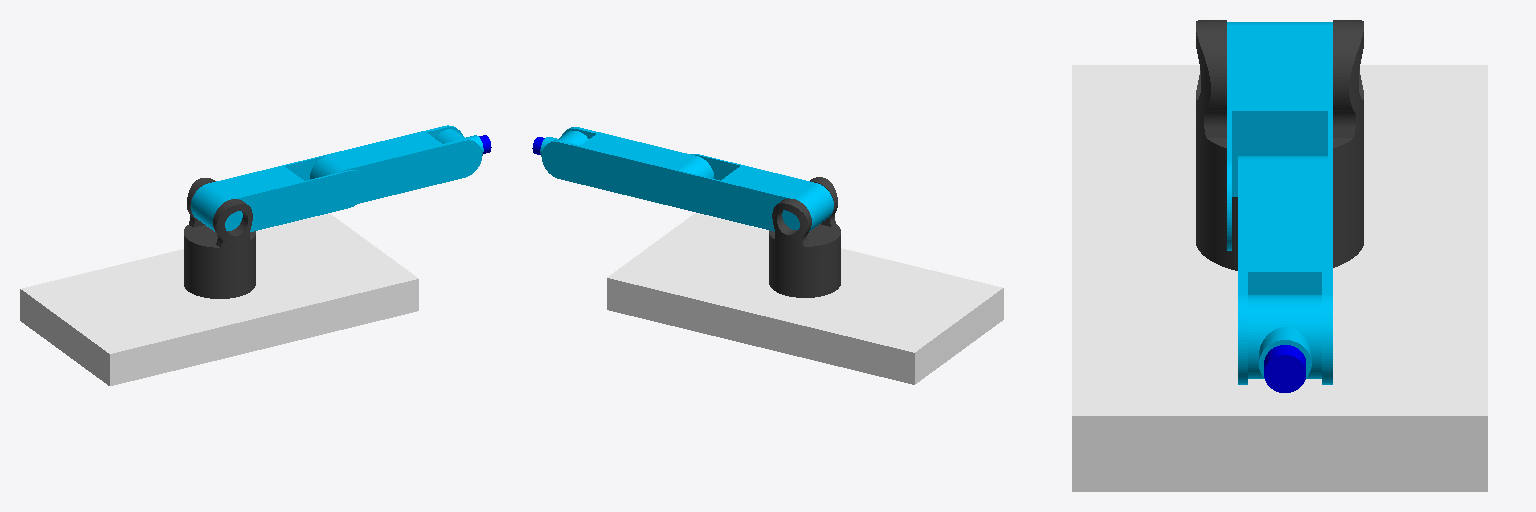
robot.urdf — echelon:
<?xml version="1.0"?>
<robot name="echelon">
    <material name="white">
        <color rgba="1 1 1 1"/>
    </material>

    <material name="black">
        <color rgba="0.3 0.3 0.3 1"/>
    </material>

    <material name="orange">
        <color rgba="0 0.8 1 1"/>
    </material>

    <material name="blue">
        <color rgba="0.0 0.0 1.0 1.0" />
    </material>

    <link name="world">
        <visual>
            <geometry>
                <box size="1 0.5 0.1" />
            </geometry>
            <origin xyz="0 0 -0.05" rpy="0 0 0" />
            <material name="white"/>
        </visual>
    </link>

    <link name="base_link">
        <visual>
            <geometry>
                <mesh filename="package://robot_description/meshes/Base_link.stl" scale="0.001 0.001 0.001"/>
            </geometry>
            <origin xyz="0 0 0" rpy="0 0 0" />
            <material name="black"/>
        </visual>
    </link>

    <joint name="world_base_joint" type="continuous">
        <parent link="world"/>
        <child link="base_link"/>
        <origin xyz="0 0 0" rpy="0 0 -1.5708"/>
        <axis xyz="0 0 1"/>
    </joint>

    <link name="shoulder_link">
        <visual>
            <geometry>
                <mesh filename="package://robot_description/meshes/Shoulder_link.stl" scale="0.001 0.001 0.001"/>
            </geometry>
            <origin xyz="0 0 0" rpy="0 1.5708 0"/>
            <material name="orange"/>
        </visual>
    </link>

    <joint name="base_shoulder_joint" type="continuous">
         <parent link="base_link" />
         <child link="shoulder_link" />
         <origin xyz="-0.0635 0 0.227" rpy="0 0 0" />
         <axis xyz="1 0 0"/>
    </joint>

    <link name="elbow_link">
        <visual>
            <geometry>
                <mesh filename="package://robot_description/meshes/Elbow_link.stl" scale="0.001 0.001 0.001"/>
            </geometry>
            <origin xyz="0 0 0" rpy="0 1.5708 0"/>
            <material name="orange"/>
        </visual>
    </link>

    <joint name="shoulder_elbow_joint" type="continuous">
        <parent link="shoulder_link" />
        <child link="elbow_link" />
        <origin xyz="0 0.381 0" rpy="0 0 0" />
        <axis xyz="1 0 0"/>
    </joint>

    <link name="wrist_main_link">
        <visual>
            <geometry>
                <mesh filename="package://robot_description/meshes/Wrist_main_link.stl" scale="0.001 0.001 0.001"/>
            </geometry>
            <origin xyz="0 -0.05715 -0.05715" rpy="0 0 0"/>
            <material name="orange"/>
        </visual>
    </link>

    <joint name="elbow_wrist_main_joint" type="continuous">
        <parent link="elbow_link" />
        <child link="wrist_main_link" />
        <origin xyz="0.05715 0.1524 0" rpy="-1.5708 0 1.5708" />
        <axis xyz="1 0 0"/>
    </joint>

    <link name="wrist_secondary_link">
        <visual>
            <geometry>
                <mesh filename="package://robot_description/meshes/Wrist_secondary_link.stl" scale="0.001 0.001 0.001"/>
            </geometry>
            <origin xyz="0 0 -0.04445" rpy="0 0 0"/>
            <material name="orange"/>
        </visual>
    </link>

    <joint name="wrist_main_wrist_secondary_joint" type="continuous">
        <parent link="wrist_main_link" />
        <child link="wrist_secondary_link" />
        <origin xyz="0.2286 0 0" rpy="0 0 1.5708" />
        <axis xyz="0 0 1"/>
    </joint>

    <link name="wrist_tertiary_link">
        <visual>
            <geometry>
                <mesh filename="package://robot_description/meshes/Wrist_tertiary_link.stl" scale="0.001 0.001 0.001"/>
            </geometry>
            <origin xyz="0 0 -0.0254" rpy="0 0 0"/>
            <material name="blue"/>
        </visual>
    </link>

    <joint name="wrist_secondary_wrist_tertiary_joint" type="continuous">
        <parent link="wrist_secondary_link" />
        <child link="wrist_tertiary_link" />
        <origin xyz="0 -0.08001 0" rpy="1.5708 0 0" />
        <axis xyz="0 0 1"/>
    </joint>
</robot>

--- What the picture shows (computed from the rendered views, not written in the file) ---
The picture shows the robot from 3 angles, left to right: view 1: azimuth 30°, elevation 25°; view 2: azimuth 150°, elevation 25°; view 3: azimuth 270°, elevation 25°; orthographic projection.
Model echelon with 7 links and 6 joints (6 continuous), rooted at world, posed all joints at 0.
Visible links, largest first — view 1: world, shoulder_link, base_link, wrist_main_link, elbow_link; view 2: world, shoulder_link, base_link, wrist_main_link, elbow_link; view 3: world, base_link, shoulder_link, wrist_main_link, elbow_link, wrist_secondary_link, wrist_tertiary_link.
Link boxes in pixels (x1=…): world: x1=20, y1=213, x2=418, y2=385; shoulder_link: x1=191, y1=155, x2=366, y2=231; base_link: x1=184, y1=178, x2=255, y2=298; wrist_main_link: x1=374, y1=125, x2=481, y2=194; elbow_link: x1=310, y1=143, x2=393, y2=203; world: x1=607, y1=213, x2=1003, y2=384; shoulder_link: x1=659, y1=154, x2=833, y2=231; base_link: x1=769, y1=177, x2=840, y2=297; wrist_main_link: x1=542, y1=127, x2=649, y2=195; elbow_link: x1=630, y1=145, x2=713, y2=207; world: x1=1072, y1=65, x2=1487, y2=491; base_link: x1=1196, y1=20, x2=1363, y2=270; shoulder_link: x1=1227, y1=22, x2=1332, y2=250; wrist_main_link: x1=1238, y1=214, x2=1332, y2=384; elbow_link: x1=1238, y1=156, x2=1332, y2=213; wrist_secondary_link: x1=1248, y1=295, x2=1321, y2=378; wrist_tertiary_link: x1=1264, y1=345, x2=1305, y2=392.
Size in the robot's own frame: 1.37 by 0.5 by 0.3858 metres.
Meshes: 6 distinct files referenced, 6 mesh visuals loaded (6 binary STL).